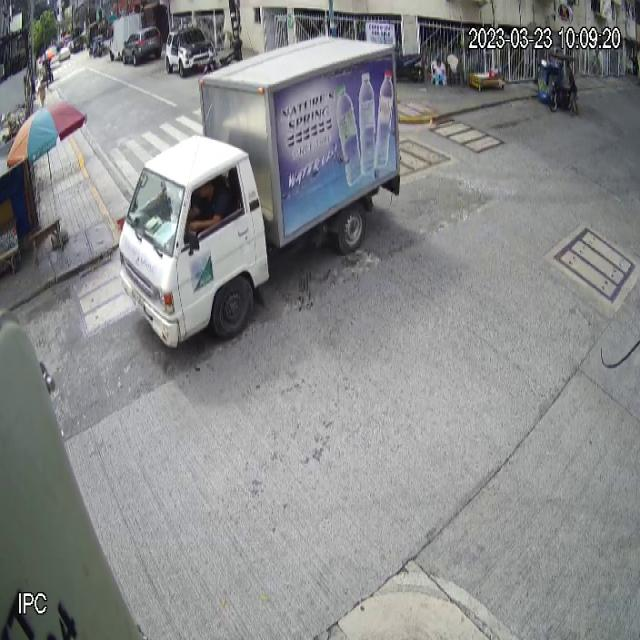Truck: (116, 32, 400, 350)
